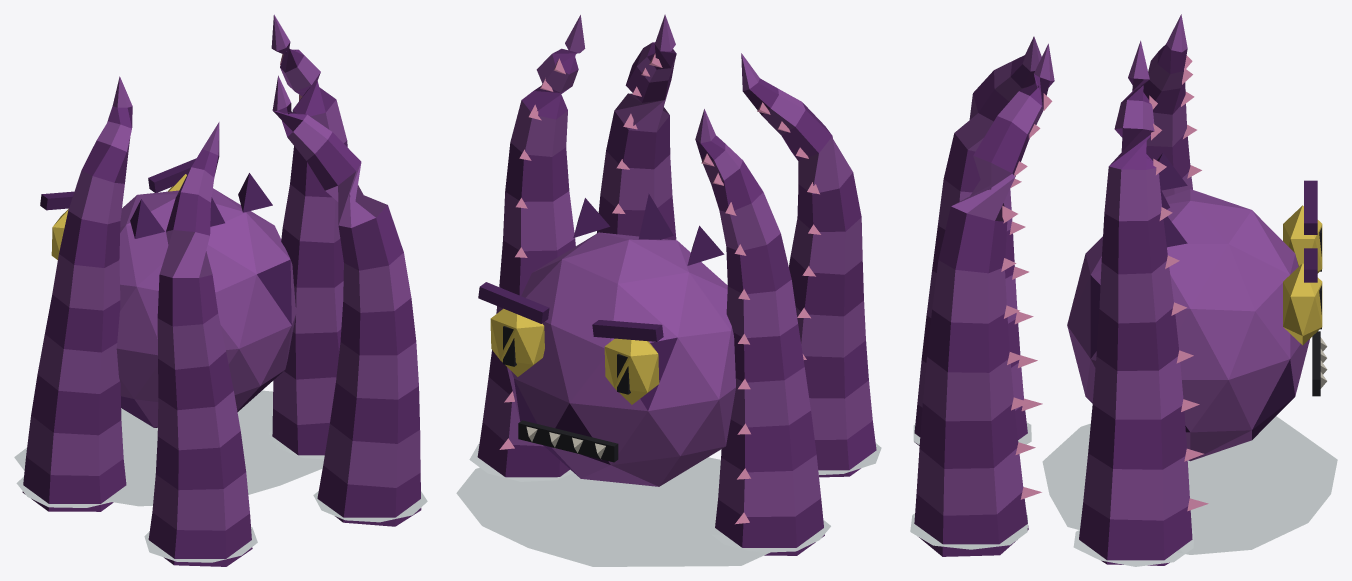
File: Decor_PirateShip_Kraken.fbx
The picture shows the model from 3 angles, left to right: view 1: azimuth 30°, elevation 25°; view 2: azimuth 150°, elevation 25°; view 3: azimuth 270°, elevation 25°; orthographic projection. The views are drawn at different scales.
Parts seen in each view (by area): view 1: Kraken_Body; view 2: Kraken_Body; view 3: Kraken_Body.
Boxes of the visible parts, left/top/right/bottom form: Kraken_Body: left=14, top=14, right=427, bottom=566; Kraken_Body: left=456, top=14, right=881, bottom=566; Kraken_Body: left=910, top=14, right=1337, bottom=566.
Size of the model in its own units: 14.4 by 18.2 by 14.5.
